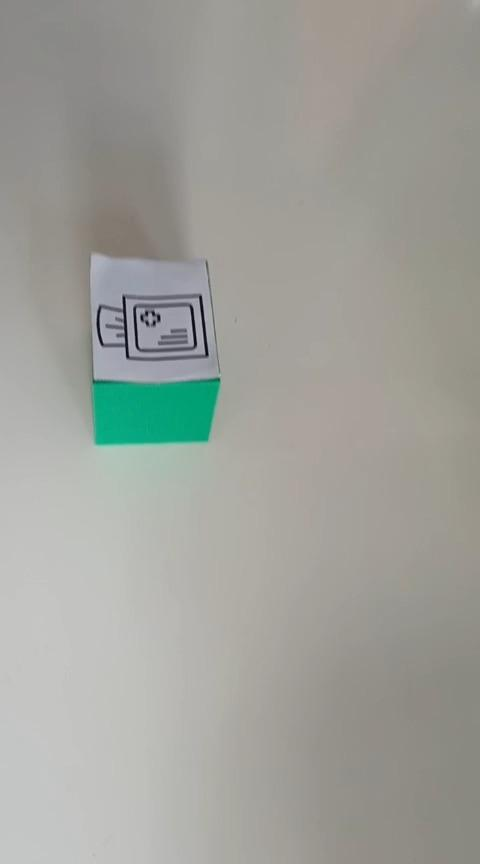Gauze: (88, 250, 222, 445)
